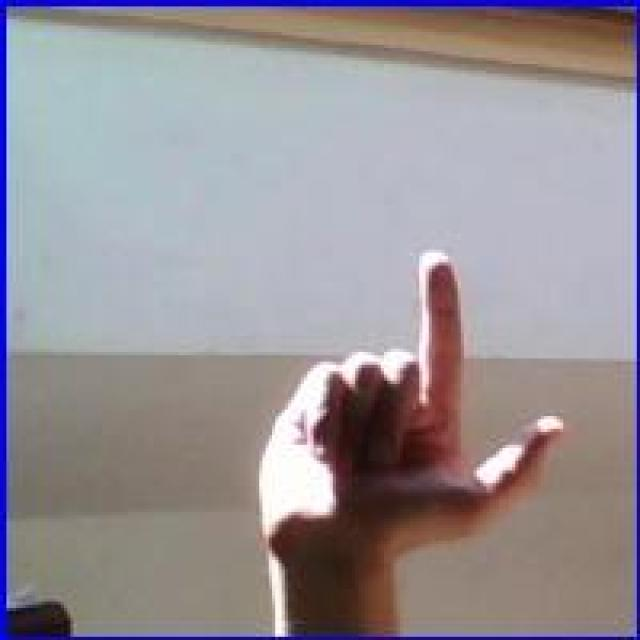L: (252, 236, 570, 574)
